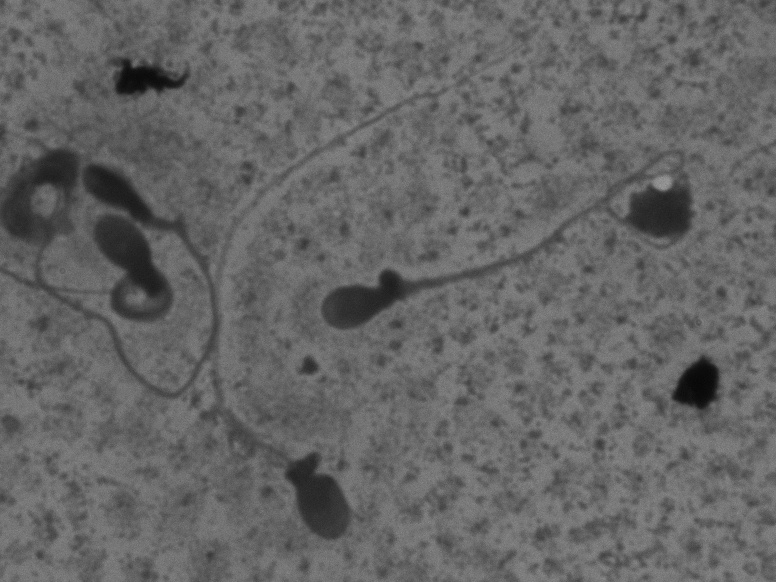Abnormal: (201, 30, 534, 551), (294, 140, 695, 362), (23, 141, 232, 410), (26, 213, 177, 350)
